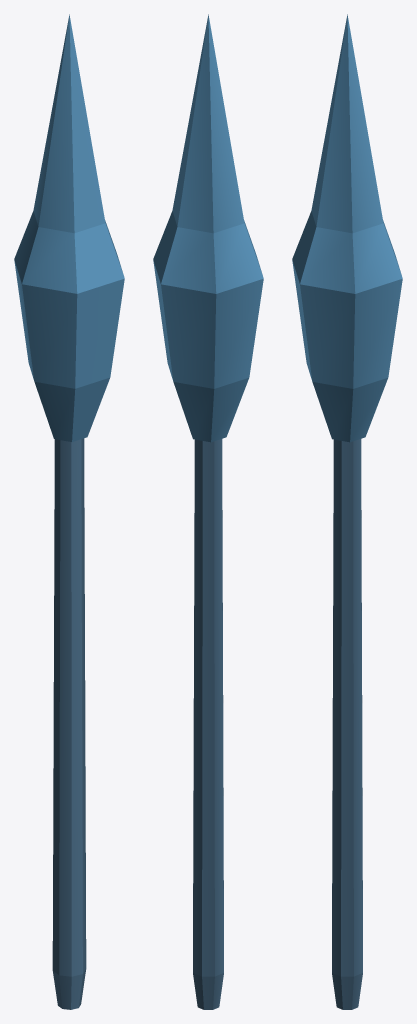
File: Rosaria_RitesOfTerminationState_TwoFields_LanceShaft.fbx
The picture shows the model from 3 angles, left to right: view 1: azimuth 90°, elevation 25°; view 2: azimuth 150°, elevation 25°; view 3: azimuth 330°, elevation 25°; orthographic projection.
Visible parts, largest first — view 1: PART_OneFacetedLongLancePoint, PART_DarkIceLanceShaft; view 2: PART_OneFacetedLongLancePoint, PART_DarkIceLanceShaft; view 3: PART_OneFacetedLongLancePoint, PART_DarkIceLanceShaft.
Boxes of the visible parts, x1=… form: PART_OneFacetedLongLancePoint: x1=14, y1=14, x2=124, y2=441; PART_DarkIceLanceShaft: x1=52, y1=438, x2=86, y2=1009; PART_OneFacetedLongLancePoint: x1=153, y1=14, x2=263, y2=442; PART_DarkIceLanceShaft: x1=193, y1=439, x2=223, y2=1009; PART_OneFacetedLongLancePoint: x1=292, y1=14, x2=402, y2=442; PART_DarkIceLanceShaft: x1=332, y1=439, x2=362, y2=1009.
Bounding box in the file's own units: 45.61 × 420 × 42.48.
